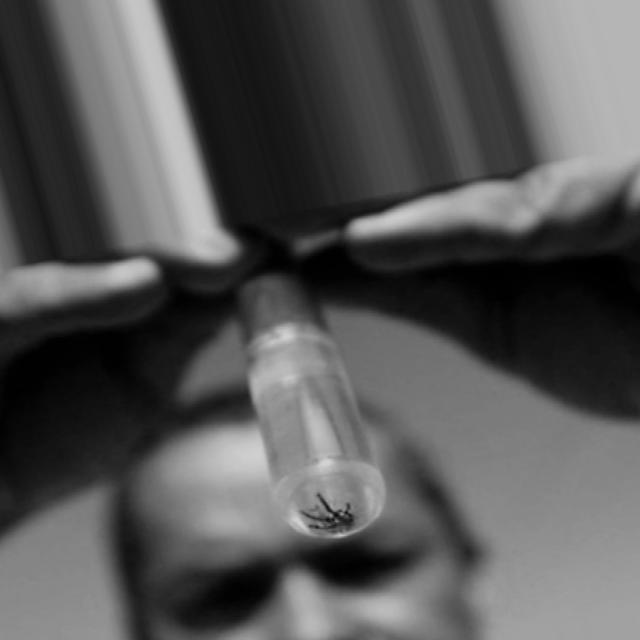larvas: (316, 491, 349, 530), (303, 511, 333, 524), (338, 500, 356, 521), (306, 524, 339, 532)
